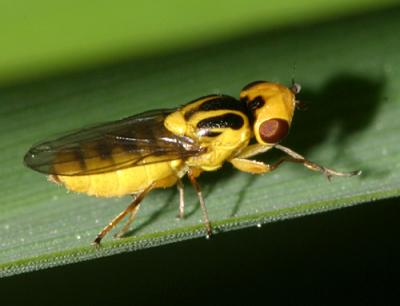Chloropidae: (23, 65, 363, 247)
